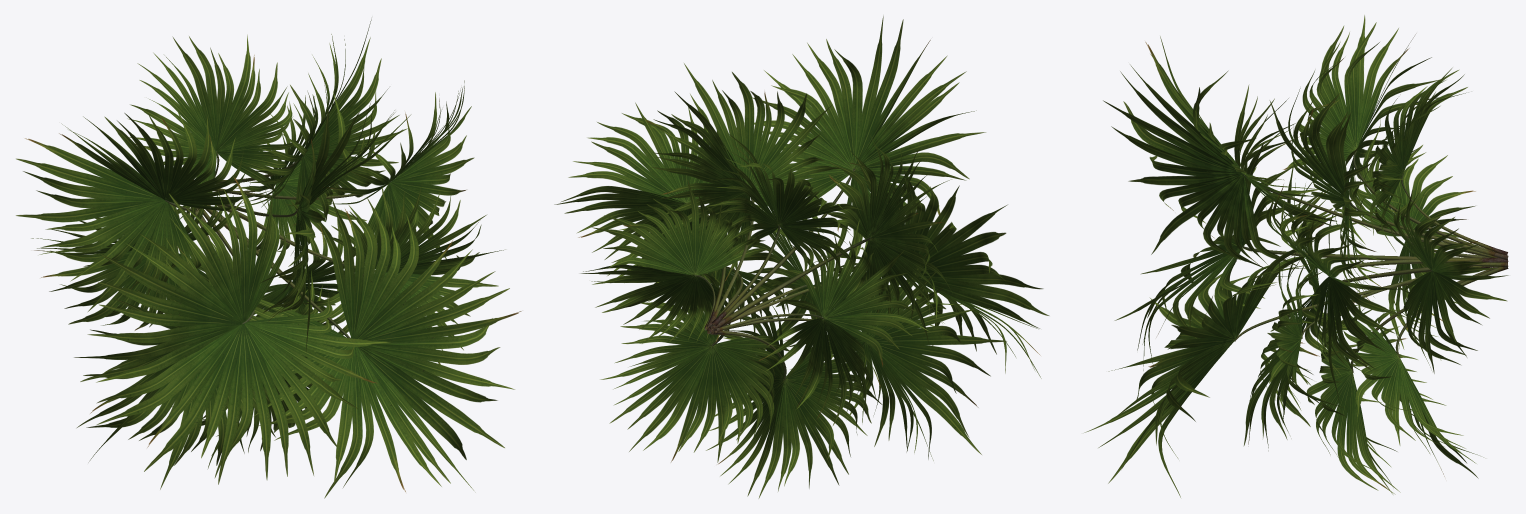
File: leefs.glb
3 views of the same model, side by side, from view 1: azimuth 30°, elevation 25°; view 2: azimuth 150°, elevation 25°; view 3: azimuth 270°, elevation 25° (orthographic). The views are drawn at different scales.
Parts seen in each view (by area): view 1: LIVISTONA_CHINENSIS_LIVISTONA_CHINENSIS_Mat_0; view 2: LIVISTONA_CHINENSIS_LIVISTONA_CHINENSIS_Mat_0; view 3: LIVISTONA_CHINENSIS_LIVISTONA_CHINENSIS_Mat_0.
Boxes of the visible parts, x1=… form: LIVISTONA_CHINENSIS_LIVISTONA_CHINENSIS_Mat_0: x1=16, y1=19, x2=521, y2=498; LIVISTONA_CHINENSIS_LIVISTONA_CHINENSIS_Mat_0: x1=554, y1=16, x2=1049, y2=498; LIVISTONA_CHINENSIS_LIVISTONA_CHINENSIS_Mat_0: x1=1084, y1=15, x2=1508, y2=497.
Size of the model in its own units: 1.6 by 1.45 by 1.3.
1 material, 1 textured.
